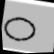no answer: (1, 12, 40, 46)
